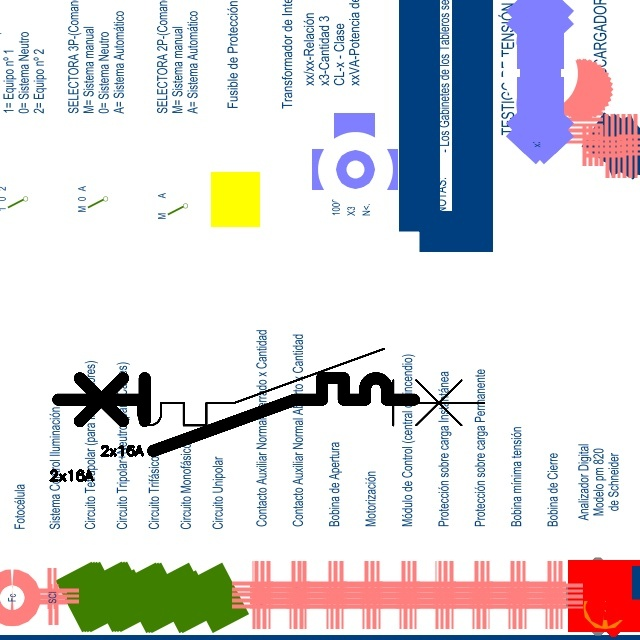interruptor_termomagnetico: (100, 339, 494, 435), (49, 369, 423, 460)
